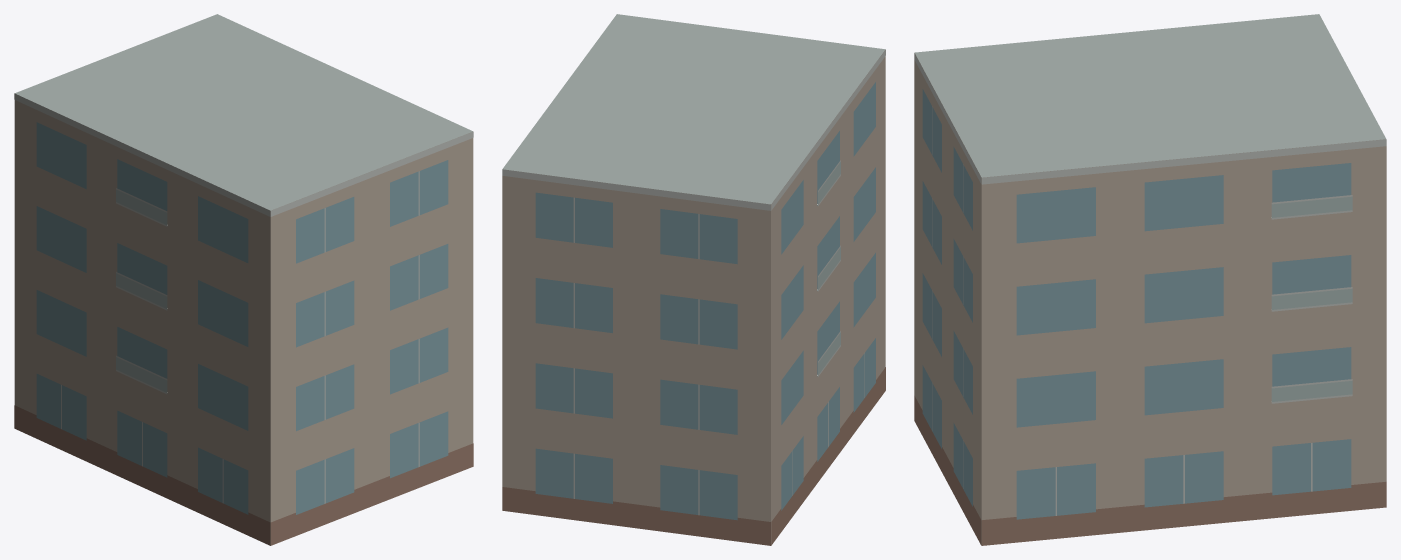
File: survey-upis-32929252.glb
3 views of the same model, side by side, from view 1: azimuth 30°, elevation 25°; view 2: azimuth 150°, elevation 25°; view 3: azimuth 270°, elevation 25° (orthographic). The views are drawn at different scales.
Parts seen in each view (by area): view 1: survey-upis-32929252.tmp; view 2: survey-upis-32929252.tmp; view 3: survey-upis-32929252.tmp.
Part boxes in pixels (x1,y1,x2,y2): survey-upis-32929252.tmp: (14,14,473,545); survey-upis-32929252.tmp: (502,14,885,545); survey-upis-32929252.tmp: (914,14,1386,545).
Bounding box in the file's own units: 12.21 × 12.8 × 14.88.
